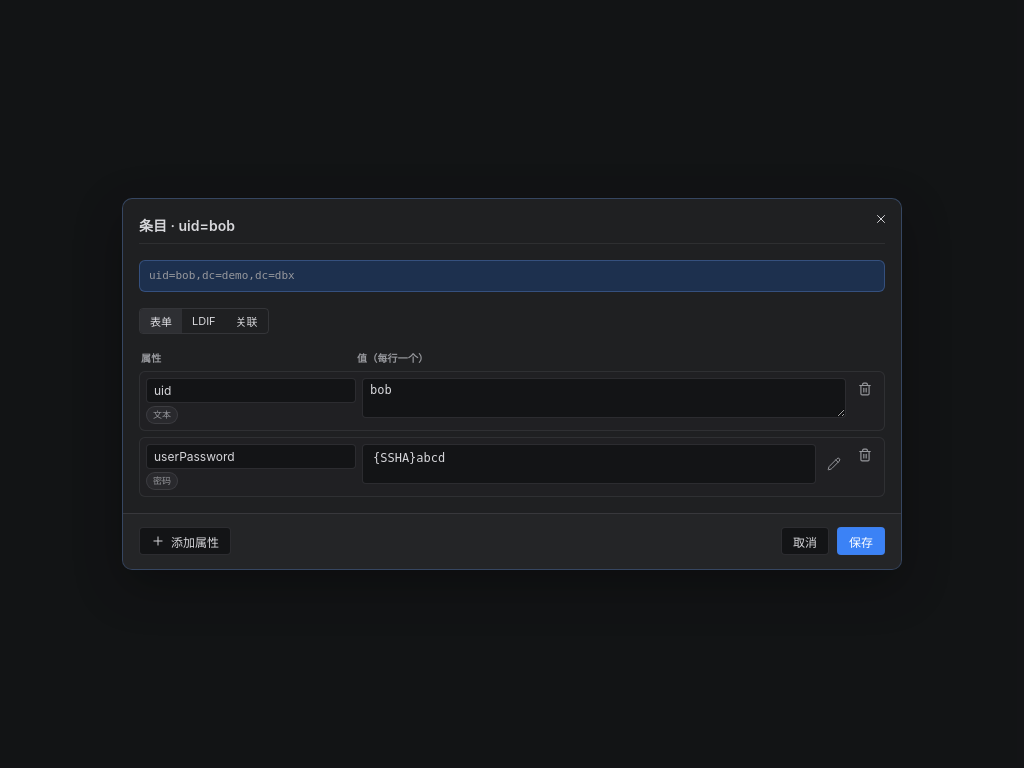
Test case: EntryEditorDialog › routes password attributes to the dialog hash editor (M6 N2)
Click the button named "编辑值": (834, 464) 822,451 -> 846,477
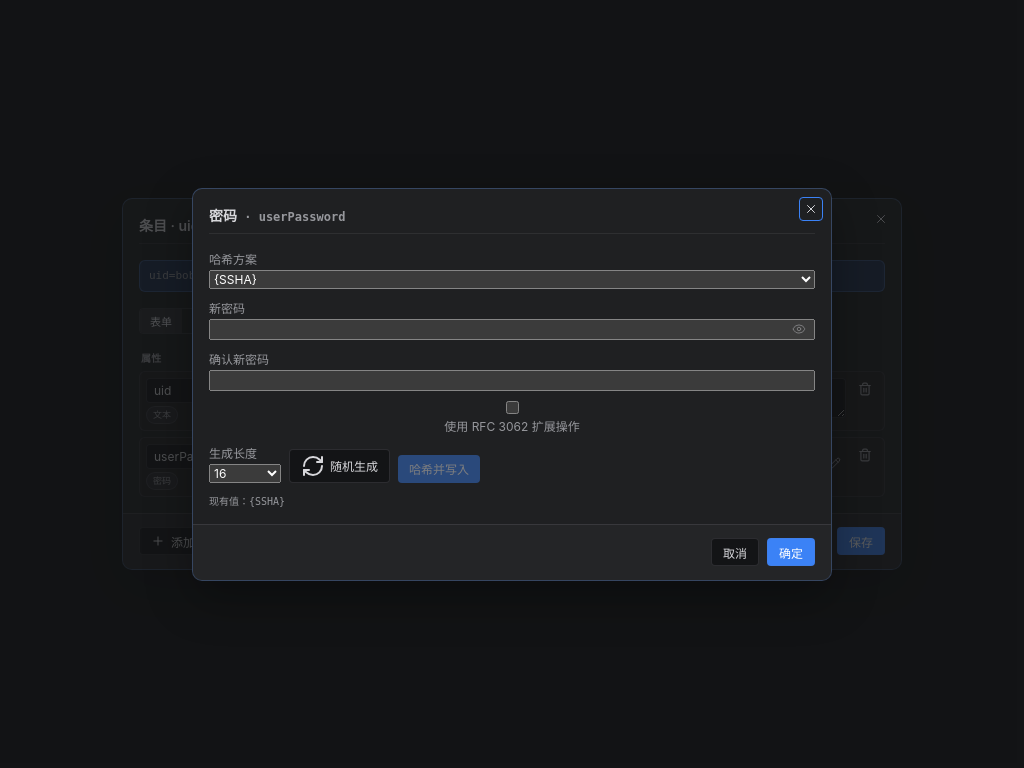
Expected: the text box named "uid" is shown, 362,378 -> 846,418
Result: the element showing "哈希方案 新密码 确认新密码 使用 RFC 3062 扩展操作 生成长度 随机生成 哈希并写入 现有值：{SSHA}" is shown at 209,250 -> 815,508
